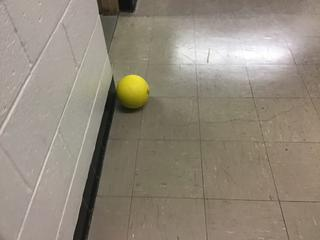power_cell: (113, 76, 156, 113)
